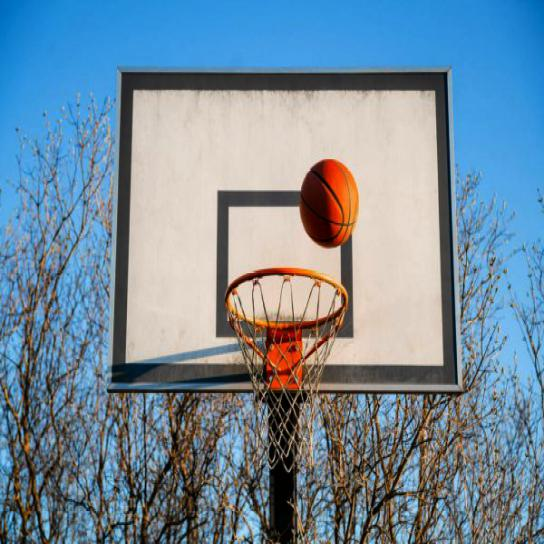basketball-hoop: (222, 264, 350, 474)
